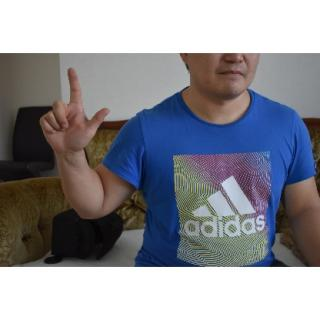LAAM: (39, 62, 111, 163)
